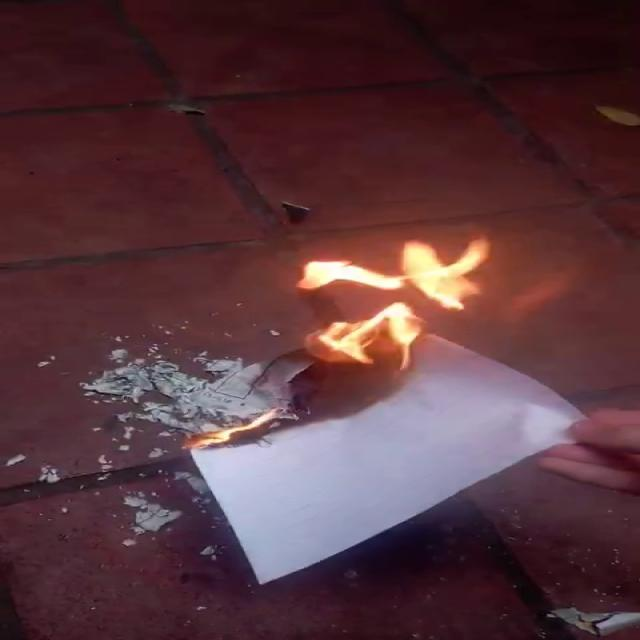Fire_Dangerous: (301, 244, 495, 378), (178, 402, 310, 449)
